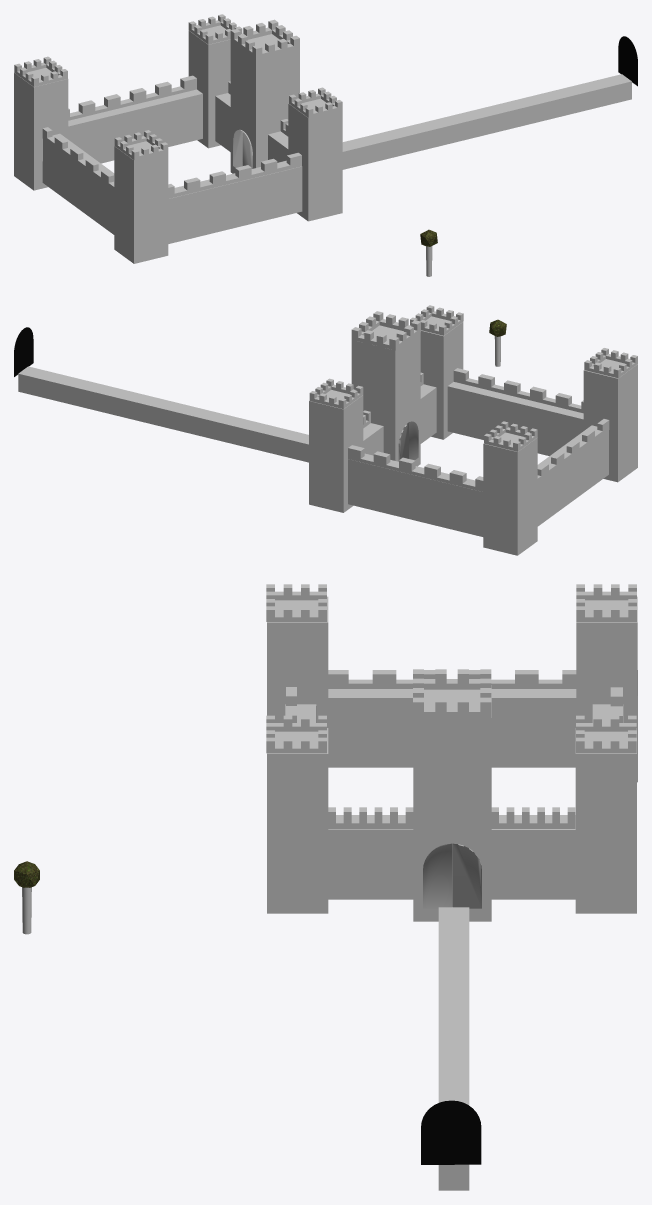
The model's file is castleExported.obj.
3 renders of one model, top to bottom at view 1: azimuth 30°, elevation 25°; view 2: azimuth 150°, elevation 25°; view 3: azimuth 270°, elevation 25°, orthographic. The views are drawn at different scales.
Visible parts, largest first — view 1: castle_wall.001_Cube.002, Cube_Cube.011, beeg_tower_Cube.005, tower.002_Cube.003, tower.001_Cube.001, tower.003_Cube.004, tower_Cube, Cube.002_Cube.009, wall_ridge_Cube.007, big_tower_ridge_Cube.028, Cube.001_Cube.008, tower_ridge.001_Cube.026 (+4 smaller); view 2: castle_wall.001_Cube.002, Cube_Cube.011, beeg_tower_Cube.005, tower.003_Cube.004, tower_Cube, tower.002_Cube.003, tower.001_Cube.001, wall_ridge_Cube.007, Cube.002_Cube.009, big_tower_ridge_Cube.028, Cube.001_Cube.008, tower_ridge.003_Cube.024 (+5 smaller); view 3: castle_wall.001_Cube.002, beeg_tower_Cube.005, tower_Cube, tower.001_Cube.001, Cube_Cube.011, tower.003_Cube.004, tower.002_Cube.003, cave_entrance_Circle.004, big_tower_ridge_Cube.028, Cube.001_Cube.008, castle_door.001_Circle, castle_door_Circle.001 (+6 smaller).
Part boxes in pixels (bbox=[...]): castle_wall.001_Cube.002: bbox=[42, 89, 302, 243]; Cube_Cube.011: bbox=[342, 74, 631, 169]; beeg_tower_Cube.005: bbox=[230, 34, 299, 173]; tower.002_Cube.003: bbox=[114, 141, 168, 263]; tower.001_Cube.001: bbox=[288, 98, 342, 221]; tower.003_Cube.004: bbox=[14, 68, 68, 190]; tower_Cube: bbox=[188, 25, 230, 148]; Cube.002_Cube.009: bbox=[168, 152, 301, 198]; wall_ridge_Cube.007: bbox=[68, 75, 196, 120]; big_tower_ridge_Cube.028: bbox=[230, 19, 299, 59]; Cube.001_Cube.008: bbox=[42, 127, 114, 190]; tower_ridge.001_Cube.026: bbox=[114, 130, 168, 160]; castle_wall.001_Cube.002: bbox=[348, 382, 608, 536]; Cube_Cube.011: bbox=[18, 366, 308, 462]; beeg_tower_Cube.005: bbox=[351, 325, 420, 466]; tower.003_Cube.004: bbox=[483, 432, 537, 555]; tower_Cube: bbox=[309, 390, 363, 512]; tower.002_Cube.003: bbox=[583, 359, 637, 482]; tower.001_Cube.001: bbox=[420, 316, 463, 439]; wall_ridge_Cube.007: bbox=[348, 445, 483, 491]; Cube.002_Cube.009: bbox=[453, 368, 583, 413]; big_tower_ridge_Cube.028: bbox=[351, 311, 420, 350]; Cube.001_Cube.008: bbox=[537, 419, 609, 481]; tower_ridge.003_Cube.024: bbox=[309, 378, 363, 408]; castle_wall.001_Cube.002: bbox=[285, 689, 623, 899]; beeg_tower_Cube.005: bbox=[413, 685, 491, 921]; tower_Cube: bbox=[575, 728, 636, 913]; tower.001_Cube.001: bbox=[267, 728, 328, 913]; Cube_Cube.011: bbox=[438, 907, 469, 1190]; tower.003_Cube.004: bbox=[576, 596, 637, 782]; tower.002_Cube.003: bbox=[267, 596, 328, 727]; cave_entrance_Circle.004: bbox=[421, 1100, 481, 1164]; big_tower_ridge_Cube.028: bbox=[413, 669, 491, 717]; Cube.001_Cube.008: bbox=[328, 670, 576, 688]; castle_door.001_Circle: bbox=[423, 843, 452, 908]; castle_door_Circle.001: bbox=[452, 843, 481, 908].
Size of the model in its own units: 262 by 68.01 by 166.
